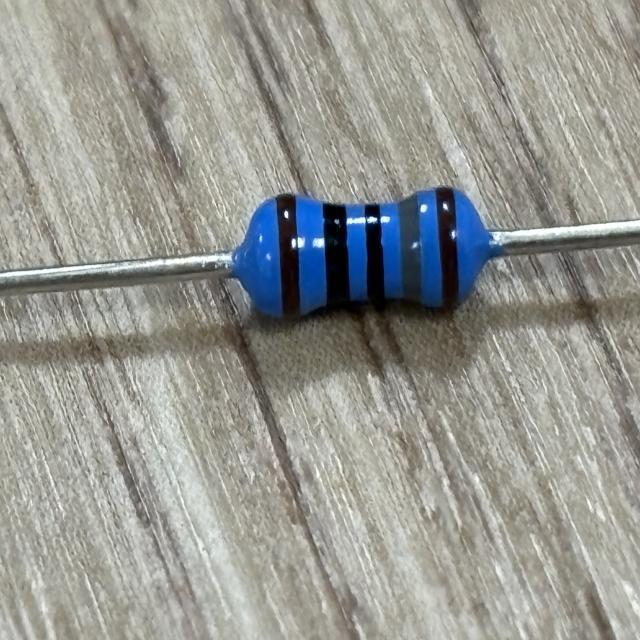resistor: (250, 179, 481, 329)
